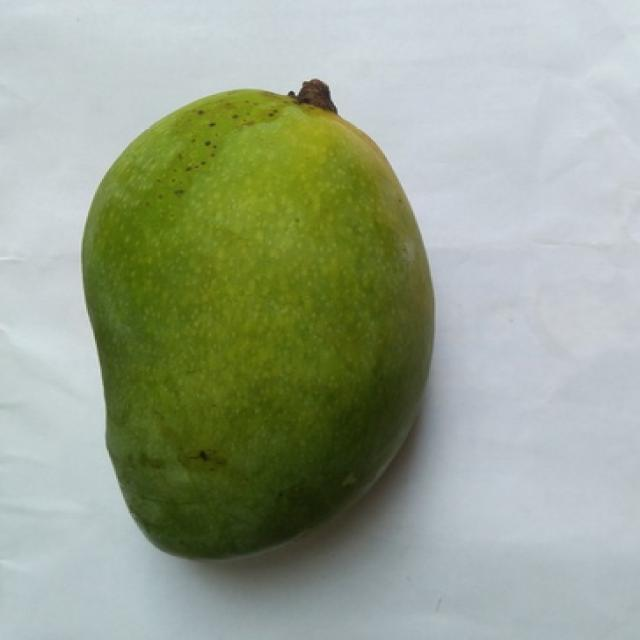Mango: (83, 87, 433, 559)
